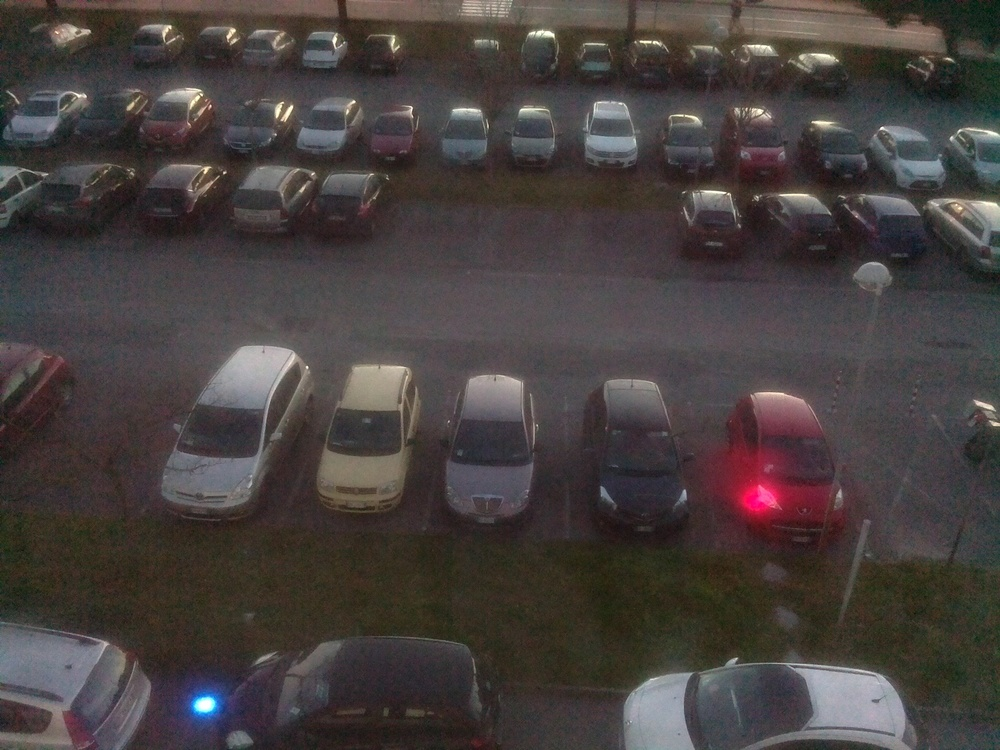Car: (219, 636, 499, 750), (623, 660, 924, 750), (160, 346, 314, 521), (0, 621, 152, 750), (723, 392, 846, 545), (583, 378, 689, 534), (316, 364, 421, 514), (443, 374, 539, 526), (0, 341, 76, 450), (34, 164, 138, 231), (833, 194, 926, 263), (232, 165, 319, 235), (138, 164, 230, 230), (923, 198, 1000, 276), (748, 193, 840, 258), (868, 125, 946, 192), (312, 172, 391, 237), (137, 88, 219, 150), (720, 106, 788, 180), (3, 90, 88, 149), (70, 88, 150, 146), (679, 189, 744, 257), (798, 120, 868, 182), (223, 99, 296, 156), (296, 97, 364, 158), (583, 101, 639, 169), (943, 127, 1000, 191), (662, 114, 715, 176), (507, 106, 557, 168), (0, 165, 46, 231), (369, 106, 420, 164), (784, 52, 849, 96), (441, 107, 489, 165), (129, 23, 189, 68), (24, 23, 97, 59), (906, 55, 964, 99), (729, 44, 782, 90), (624, 39, 671, 86), (195, 25, 248, 65), (678, 44, 726, 88), (242, 30, 296, 69), (520, 30, 560, 81), (358, 34, 404, 74), (301, 31, 348, 70), (574, 42, 616, 83), (464, 40, 503, 76), (0, 86, 20, 135)
